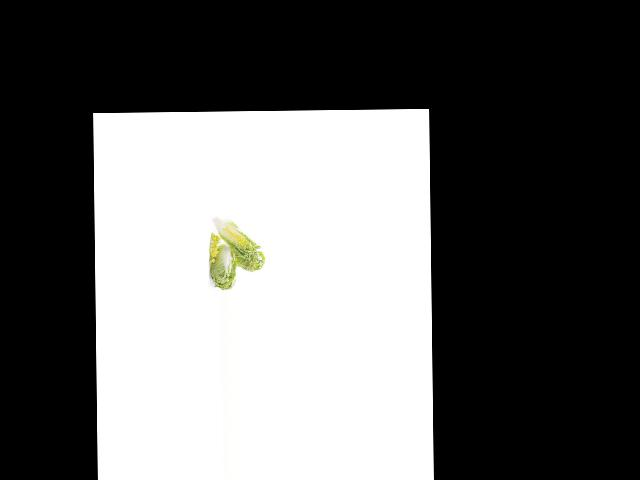lettuce: (207, 238, 238, 288)
